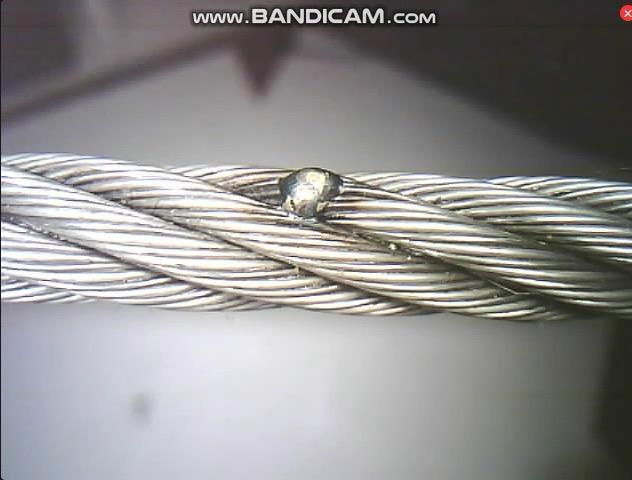thunderbolt: (257, 158, 380, 237)
